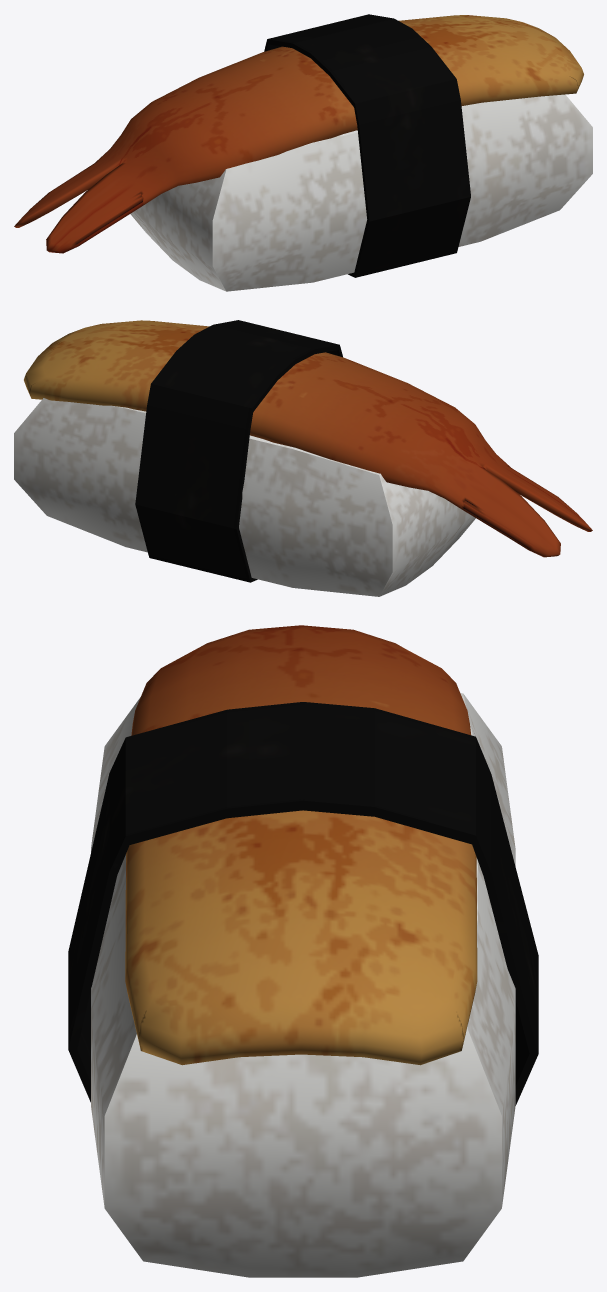
File: sushi-shiny-opt.glb
The picture shows the model from 3 angles, top to bottom: view 1: azimuth 30°, elevation 25°; view 2: azimuth 150°, elevation 25°; view 3: azimuth 270°, elevation 25°; orthographic projection. The views are drawn at different scales.
Visible parts, largest first — view 1: Box004, Box003, Box005; view 2: Box004, Box003, Box005; view 3: Box003, Box004, Box005.
Part boxes in pixels (x1,y1,x2,y2): Box004: (130,94,592,291); Box003: (14,15,583,253); Box005: (264,14,470,277); Box004: (14,398,475,596); Box003: (24,320,592,557); Box005: (135,320,342,582); Box003: (125,625,477,1065); Box004: (91,693,515,1277); Box005: (68,702,538,1105).
Size of the model in its own units: 0.2481 by 0.0904 by 0.0961.
3 materials, 3 textured.
